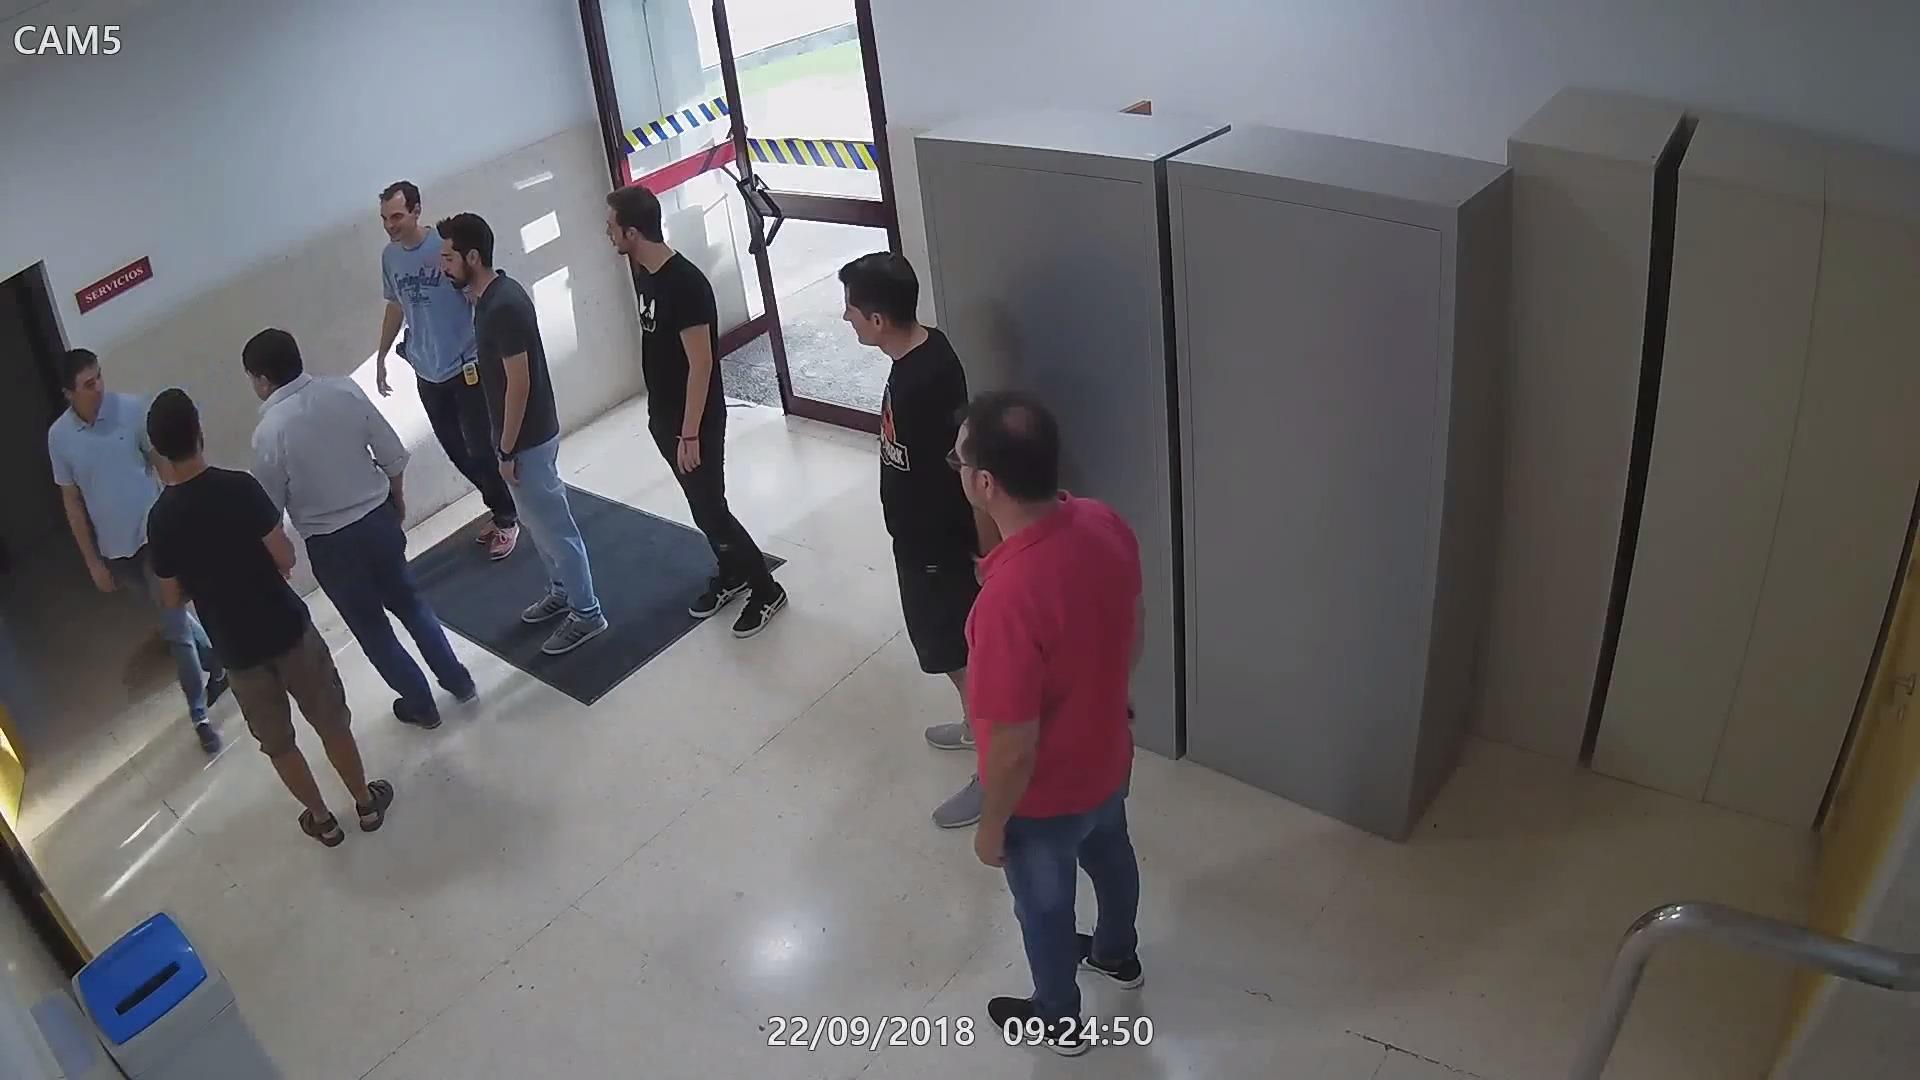Handgun: (389, 324, 415, 372)
